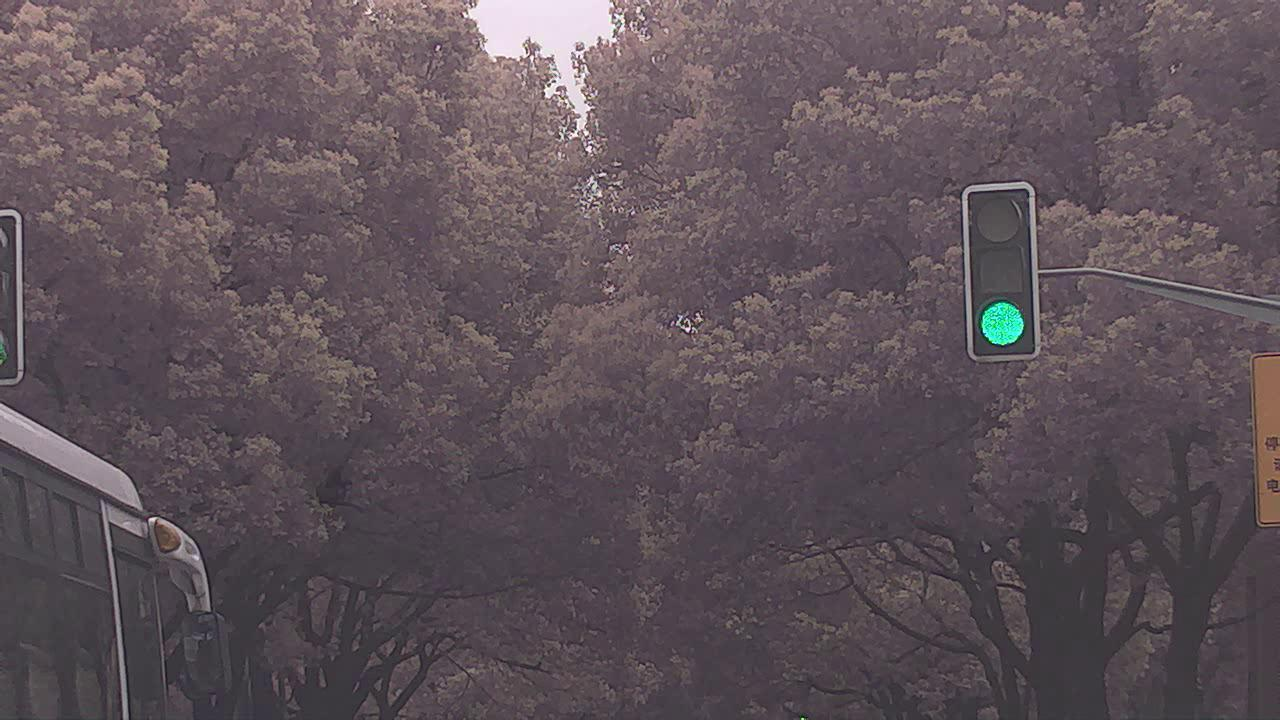traffic_light: (967, 187, 1041, 355)
